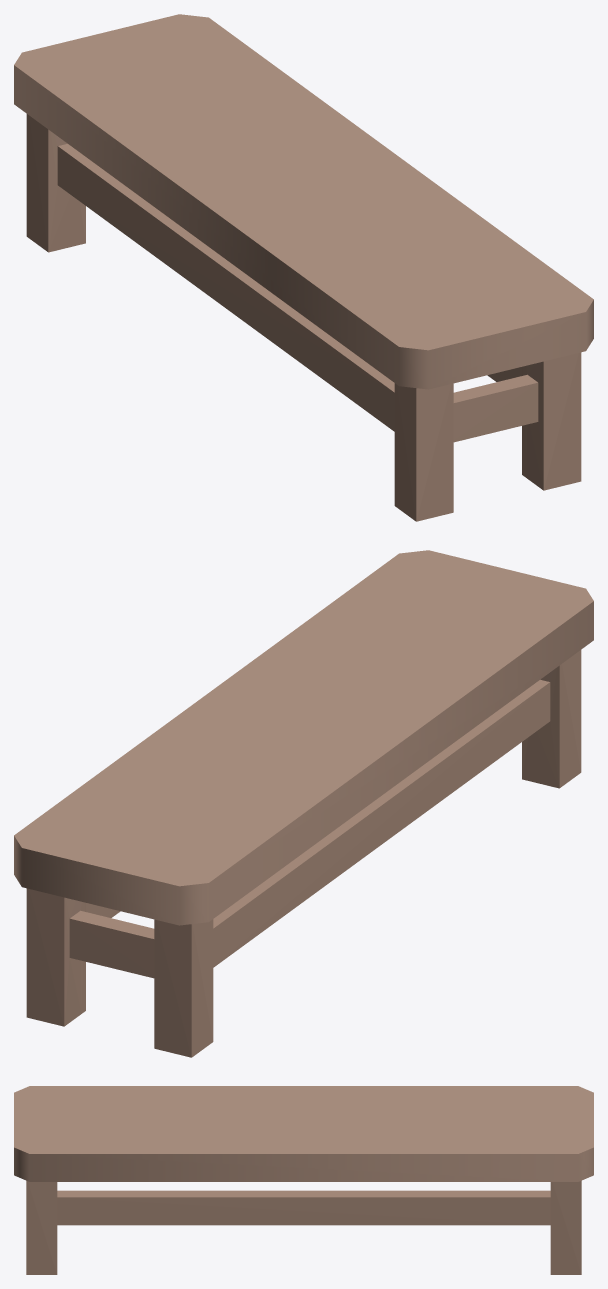
File: kenney_stall-bench.fbx
The picture shows the model from 3 angles, top to bottom: view 1: azimuth 30°, elevation 25°; view 2: azimuth 150°, elevation 25°; view 3: azimuth 270°, elevation 25°; orthographic projection. The views are drawn at different scales.
Parts seen in each view (by area): view 1: stall-bench; view 2: stall-bench; view 3: stall-bench.
Part boxes in pixels (x1,y1,x2,y2): stall-bench: (14,14,593,521); stall-bench: (14,550,593,1057); stall-bench: (14,1086,593,1274).
Bounding box in the file's own units: 26 × 22.55 × 94.
